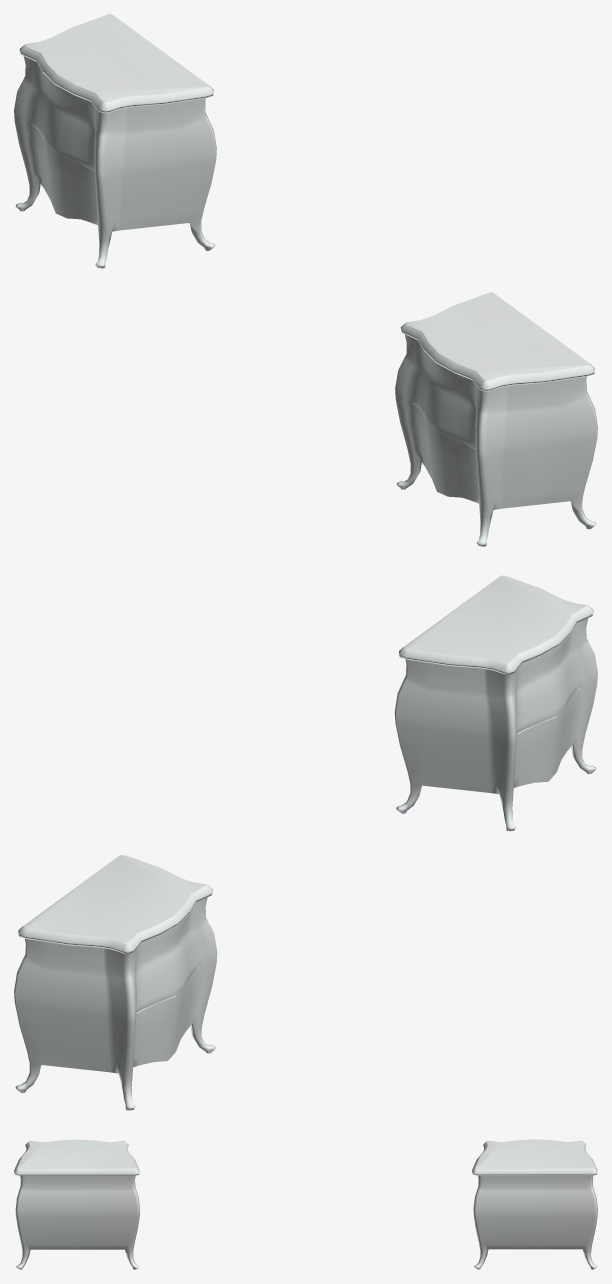
The model's file is CW_chuangtougui.fbx.
The picture shows the model from 3 angles, top to bottom: view 1: azimuth 30°, elevation 25°; view 2: azimuth 150°, elevation 25°; view 3: azimuth 270°, elevation 25°; orthographic projection. The views are drawn at different scales.
Visible parts, largest first — view 1: CW_chuangtougui; view 2: CW_chuangtougui; view 3: CW_chuangtougui.
Boxes of the visible parts, left/top/right/bottom form: CW_chuangtougui: left=14, top=14, right=597, bottom=546; CW_chuangtougui: left=14, top=575, right=597, bottom=1110; CW_chuangtougui: left=14, top=1139, right=597, bottom=1269.
Bounding box in the file's own units: 51.93 × 70.56 × 376.
